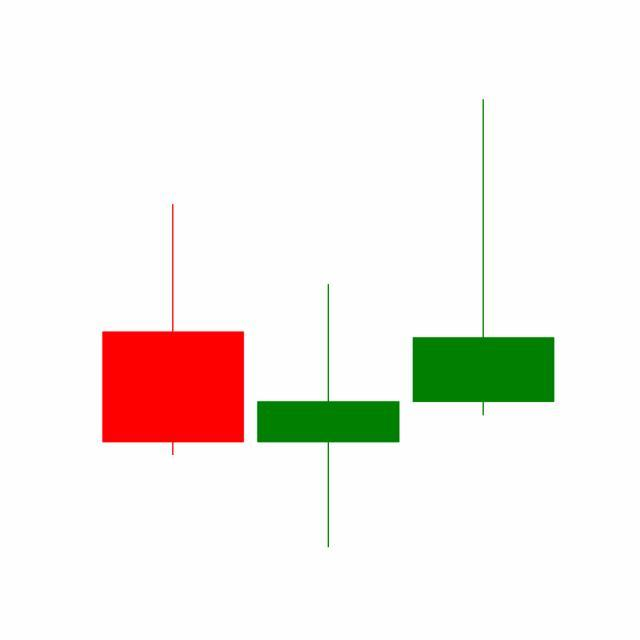Spinning Top: (250, 281, 407, 551)
